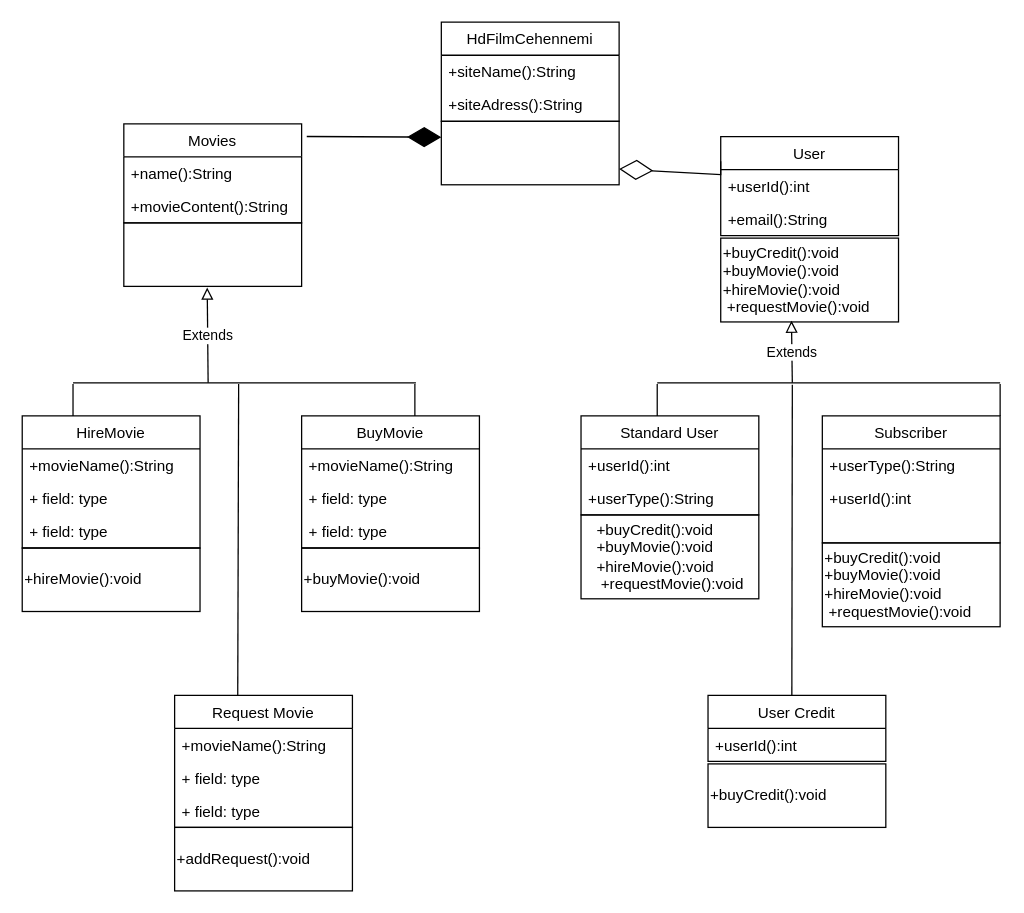
Image size: 1024x913. Some labels were removed from this diagram. The centre of each missing label's shape, as x and y in pixels:
+buyMovie():void +addRequest():void +hireMovie():void: the point at 529,152
+hireMovie():void +buyMovie():void +addRequest():void: the point at 212,254
